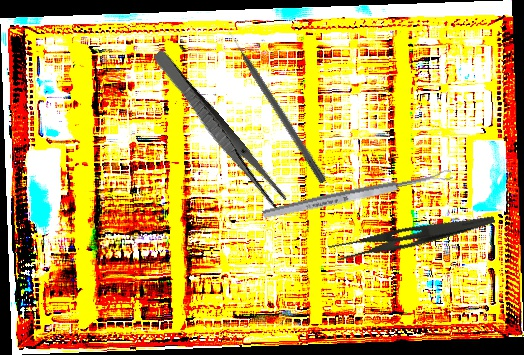Dressing Forceps: (148, 47, 289, 211), (327, 197, 496, 270)
Pusher: (225, 27, 329, 185)
Surgical Spoon: (261, 168, 454, 221)
